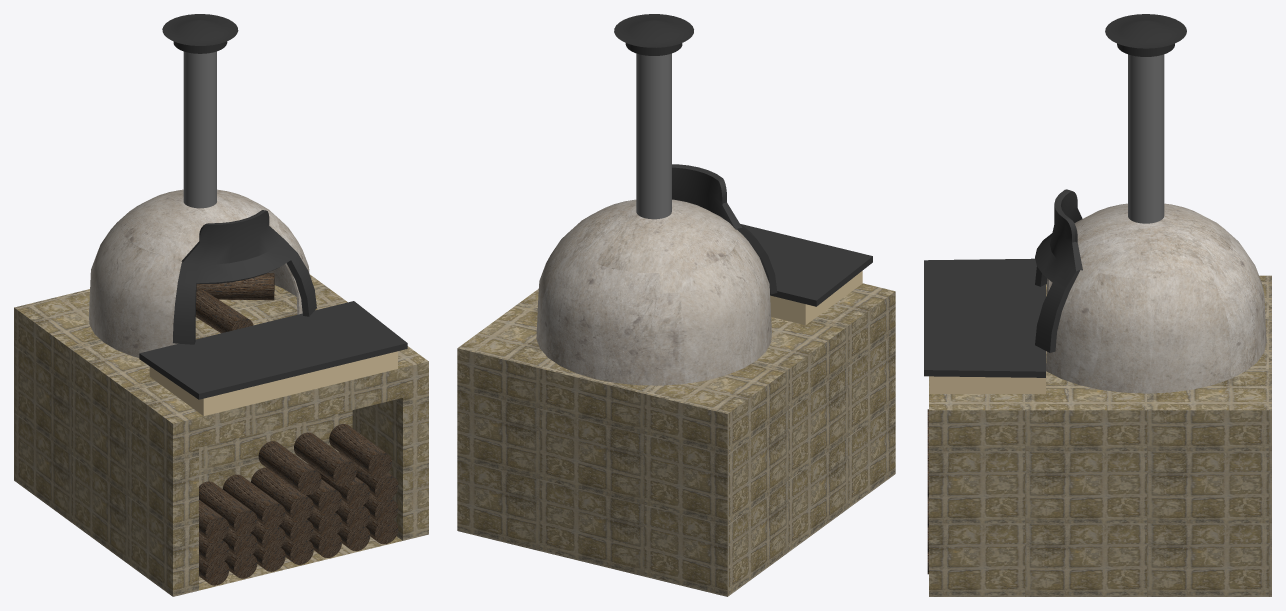
Rendered from Pizza Oven.fbx.
3 renders of one model, left to right at view 1: azimuth 30°, elevation 25°; view 2: azimuth 150°, elevation 25°; view 3: azimuth 270°, elevation 25°, orthographic. The views are drawn at different scales.
Parts seen in each view (by area): view 1: Sphere.002; view 2: Sphere.002; view 3: Sphere.002.
Part boxes in pixels (x1,y1,x2,y2): Sphere.002: (14, 14, 428, 596); Sphere.002: (457, 14, 895, 596); Sphere.002: (924, 14, 1271, 596).
Bounding box in the file's own units: 209 × 369 × 228.
